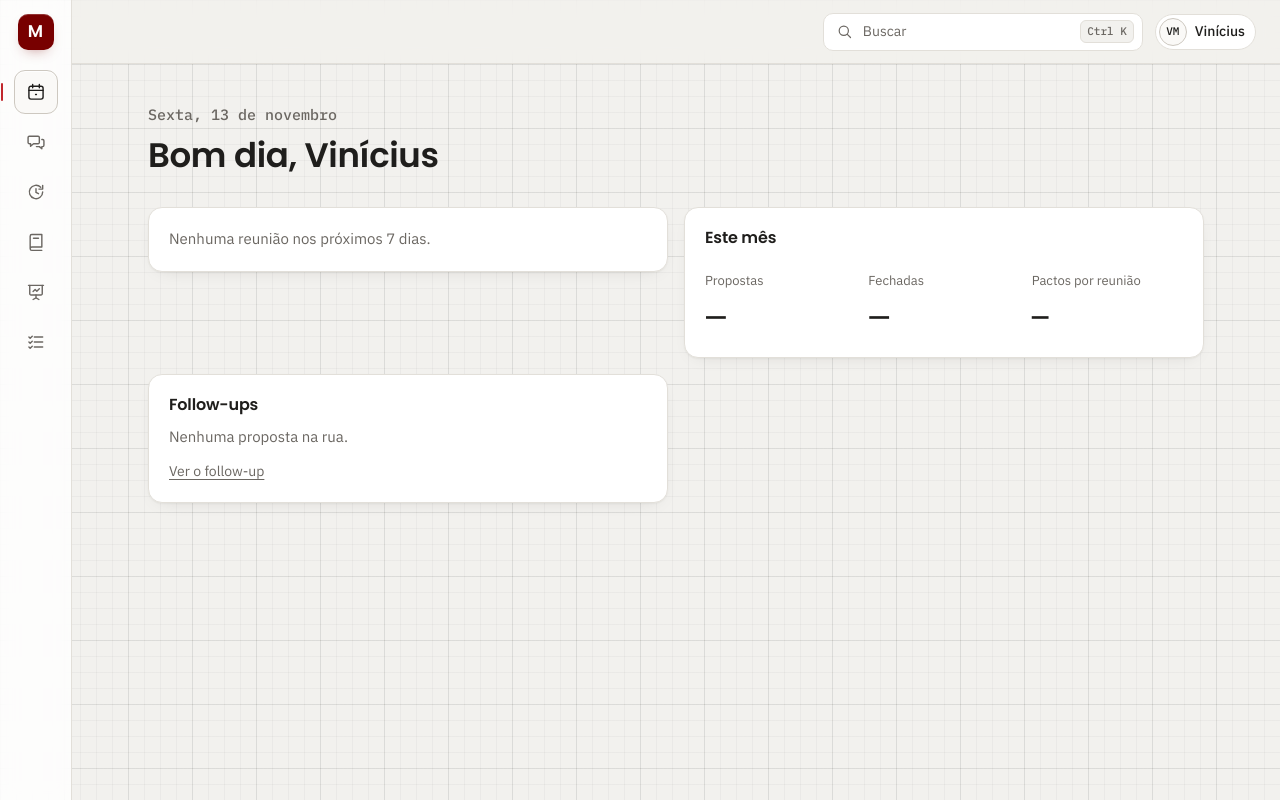
Test: o botão Buscar do topo abre a busca
Step 1. Click the button with aria-label "Buscar · Ctrl K" → point(885, 31), box x1=823 y1=12 x2=1143 y2=50
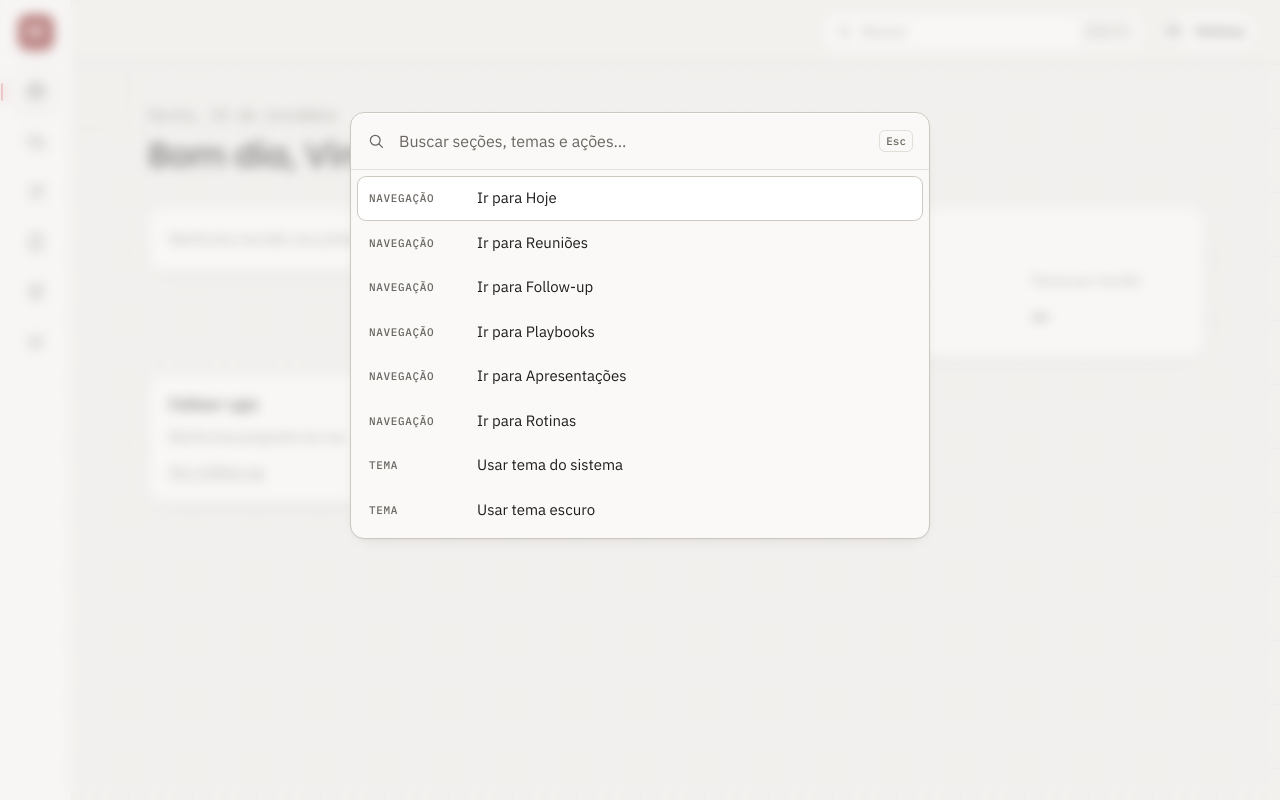
Result: the dialog named "Buscar no hub" is shown at x1=350 y1=112 x2=930 y2=539
